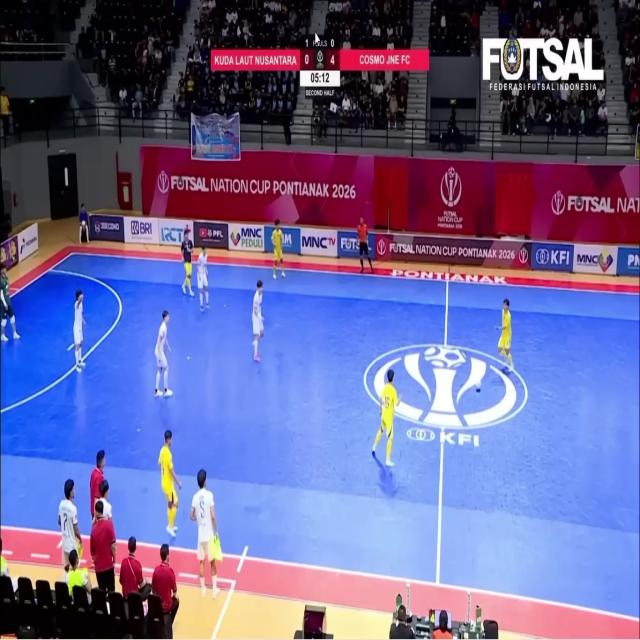official: (152, 545, 179, 638), (90, 500, 116, 592), (120, 537, 151, 602), (90, 450, 105, 518), (389, 605, 415, 639), (433, 610, 452, 639)
players: (190, 470, 219, 598), (373, 370, 400, 467), (159, 430, 181, 537), (59, 480, 81, 570), (0, 265, 20, 341), (155, 310, 172, 397), (499, 299, 513, 370), (73, 290, 85, 372), (181, 227, 194, 296), (253, 280, 263, 361), (272, 220, 285, 279), (197, 247, 208, 312)
referee: (358, 217, 373, 273)
